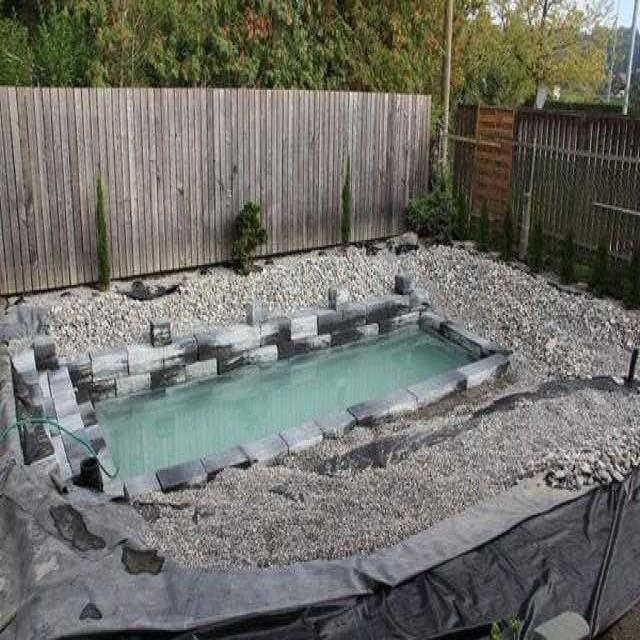Ponds: (54, 277, 518, 514)
